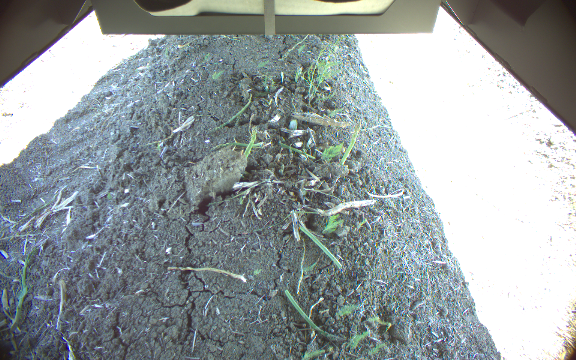aspa: (336, 121, 362, 168), (242, 127, 258, 159)
